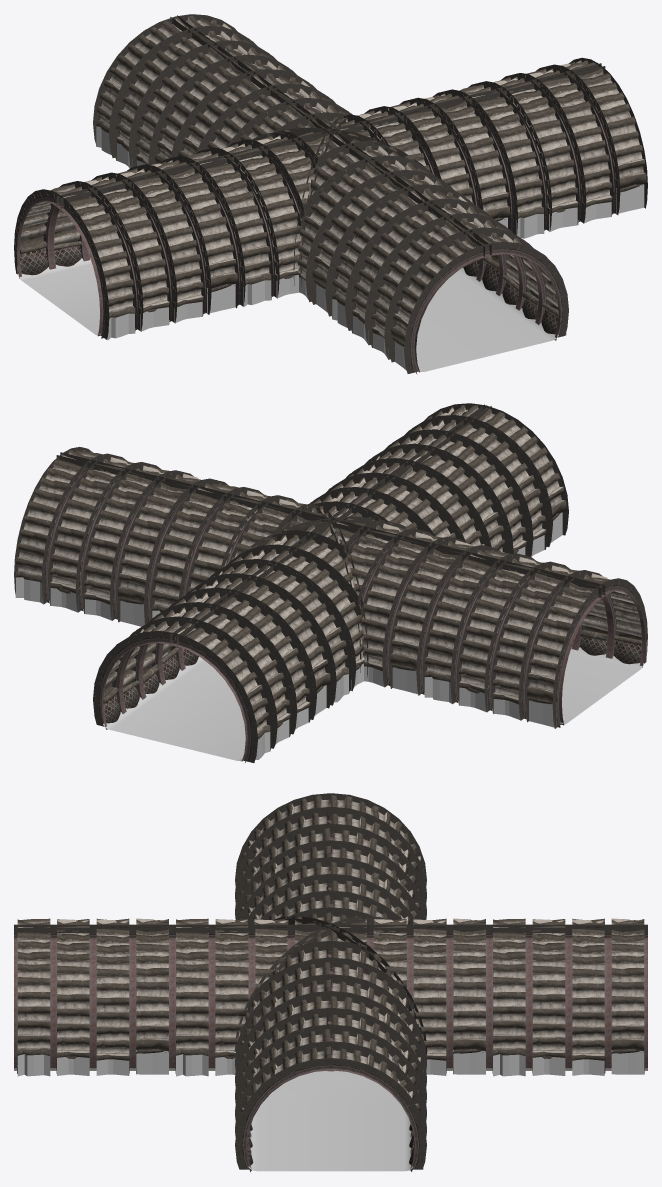
Rendered from tunnel_tile_1.dae.
The picture shows the model from 3 angles, top to bottom: view 1: azimuth 30°, elevation 25°; view 2: azimuth 150°, elevation 25°; view 3: azimuth 270°, elevation 25°; orthographic projection.
Visible parts, largest first — view 1: Walls, Ground, Chainlink, Wood; view 2: Walls, Ground, Chainlink, Wood; view 3: Walls, Ground.
Part boxes in pixels (bbox=[...]): Walls: bbox=[14, 14, 647, 373]; Ground: bbox=[17, 258, 558, 371]; Chainlink: bbox=[20, 185, 642, 374]; Wood: bbox=[20, 144, 640, 351]; Walls: bbox=[14, 403, 647, 762]; Ground: bbox=[48, 597, 644, 761]; Chainlink: bbox=[47, 594, 641, 762]; Wood: bbox=[57, 513, 641, 742]; Walls: bbox=[14, 793, 647, 1170]; Ground: bbox=[14, 1068, 647, 1171].
Size of the model in its own units: 20 by 20 by 3.99.
